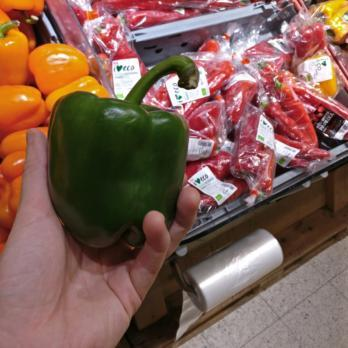Capsicum: (41, 55, 199, 251), (0, 1, 57, 229)
